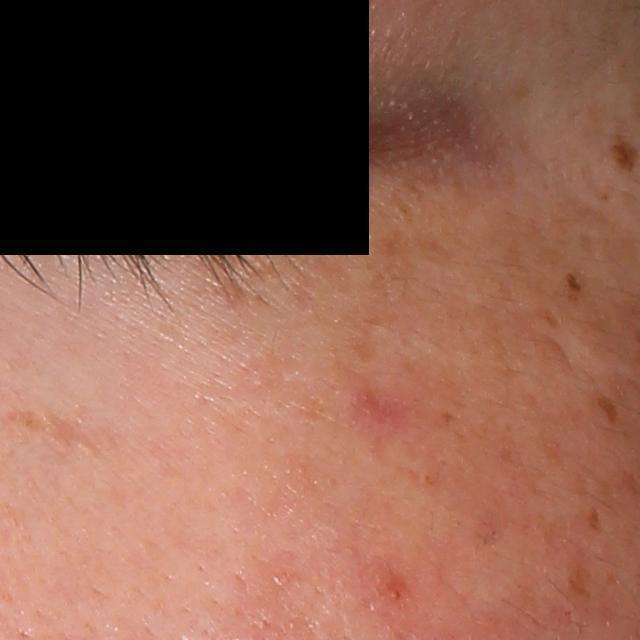melasma: (0, 405, 104, 458), (594, 396, 622, 427), (530, 306, 561, 331), (563, 270, 583, 295), (394, 197, 411, 222)
